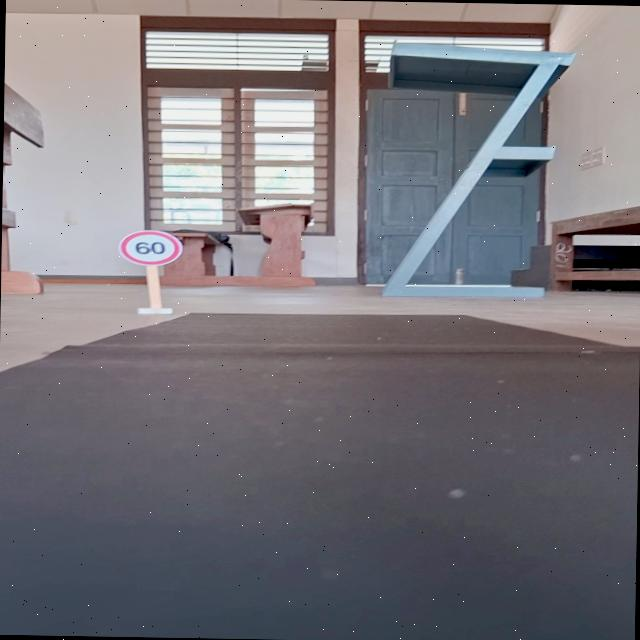Speed60: (116, 227, 183, 267)
